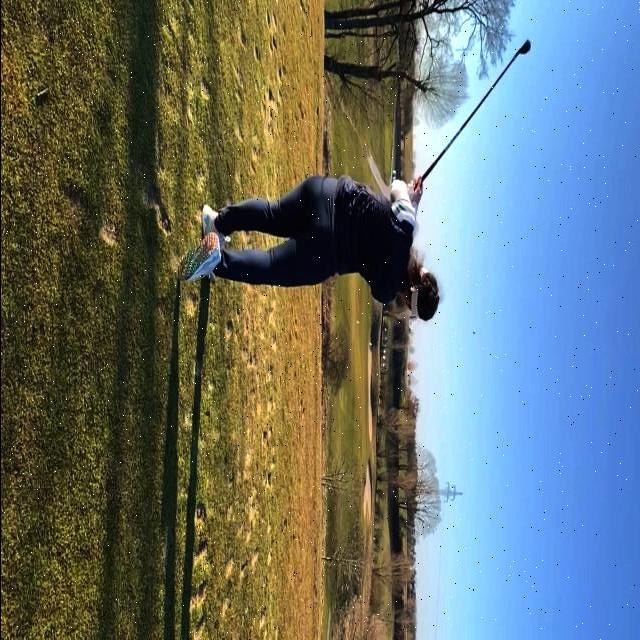golf club-handle: (418, 36, 532, 184)
golf club-head: (517, 37, 530, 59)
